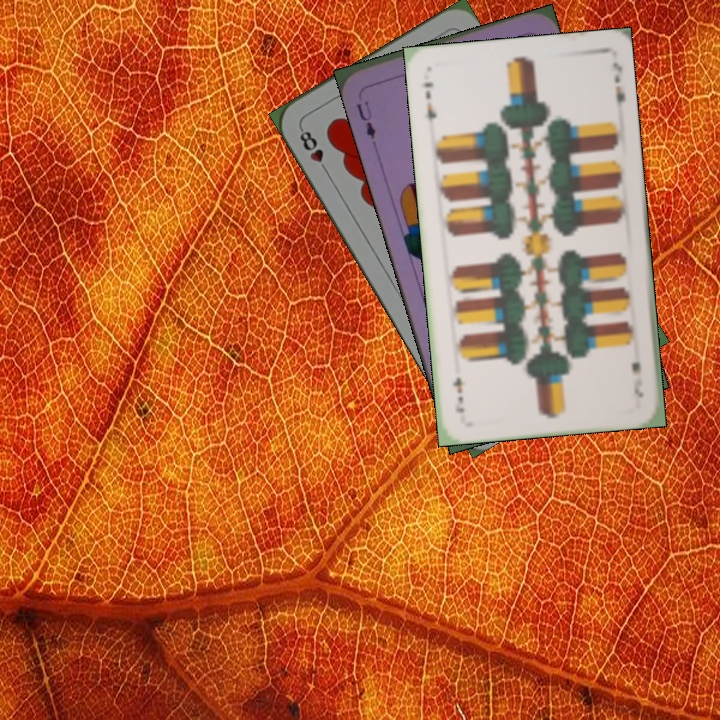E7: (419, 78, 439, 122), (627, 357, 646, 401)
EU: (352, 97, 378, 142)
H8: (295, 123, 332, 177)
